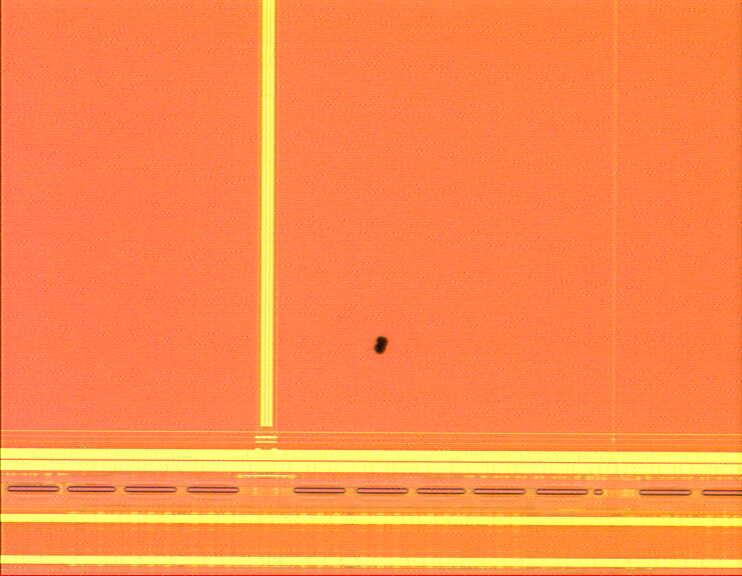PIQ PARTICLE: (366, 332, 398, 364)
